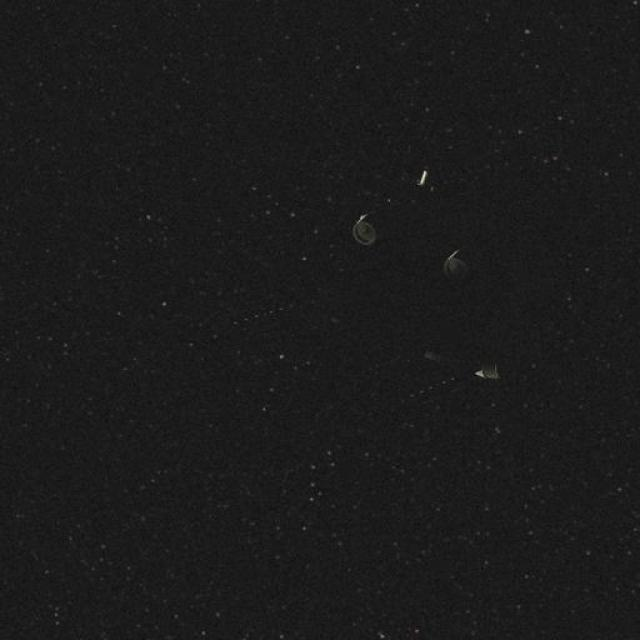proba_3_csc: (302, 126, 546, 405)
